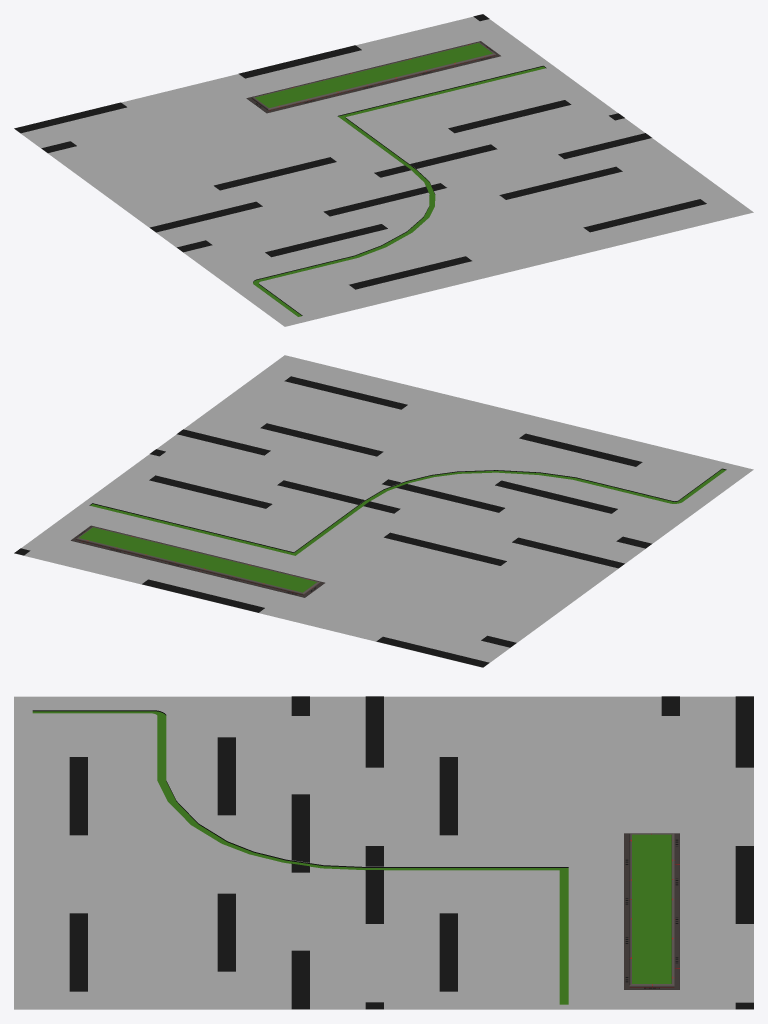
Rendered from W_M_32x32_R0_Park_Floor_a_L1.fbx.
3 views of the same model, one above another, from view 1: azimuth 30°, elevation 25°; view 2: azimuth 150°, elevation 25°; view 3: azimuth 270°, elevation 25° (orthographic). The views are drawn at different scales.
Parts seen in each view (by area): view 1: W_M_32x32_R0_Park_Floor_a_L1; view 2: W_M_32x32_R0_Park_Floor_a_L1; view 3: W_M_32x32_R0_Park_Floor_a_L1.
Boxes of the visible parts, x1=… form: W_M_32x32_R0_Park_Floor_a_L1: x1=14, y1=14, x2=753, y2=326; W_M_32x32_R0_Park_Floor_a_L1: x1=14, y1=355, x2=753, y2=667; W_M_32x32_R0_Park_Floor_a_L1: x1=14, y1=696, x2=753, y2=1009.
Size of the model in its own units: 32 by 0.1695 by 32.
